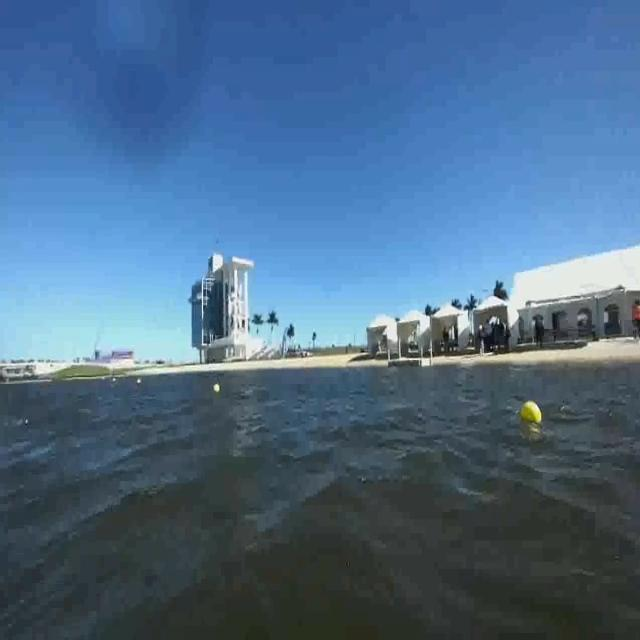yellow-buoy: (522, 402, 545, 425)
